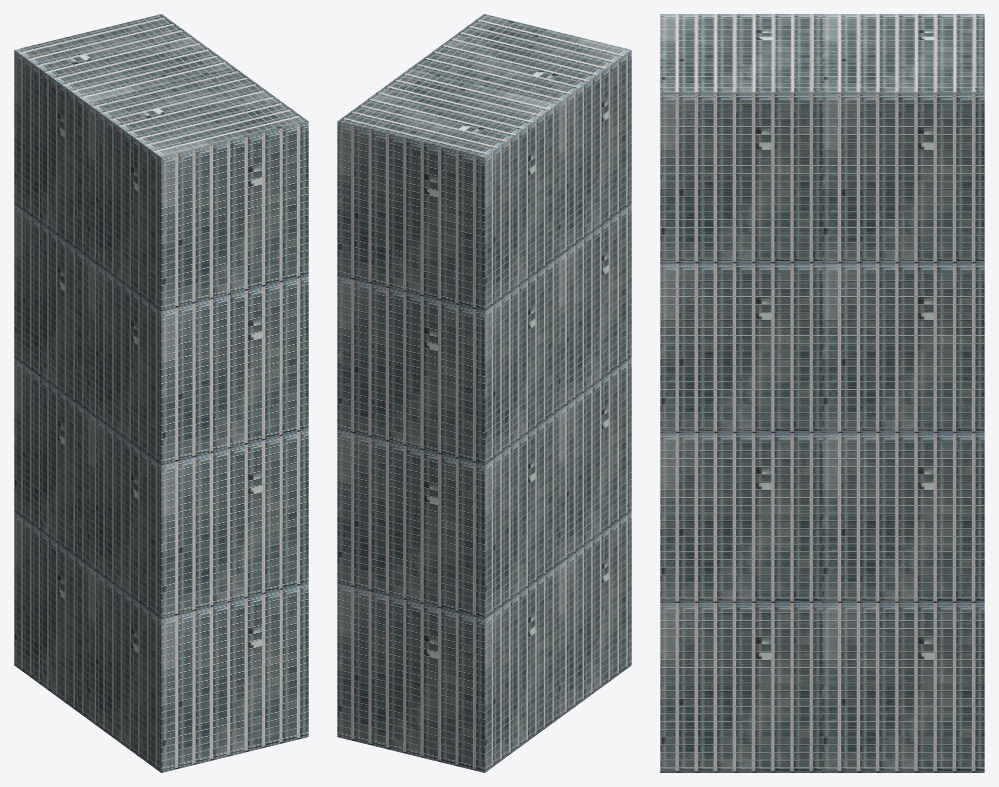
File: bina1.fbx
3 views of the same model, side by side, from view 1: azimuth 30°, elevation 25°; view 2: azimuth 150°, elevation 25°; view 3: azimuth 270°, elevation 25° (orthographic). The views are drawn at different scales.
Visible parts, largest first — view 1: Cube; view 2: Cube; view 3: Cube.
Boxes of the visible parts, x1,y1,x2,y2 form: Cube: (14,14,308,772); Cube: (337,14,631,772); Cube: (660,14,984,772).
Bounding box in the file's own units: 159 × 633 × 274.
Materials: 1 (1 with a texture image).
